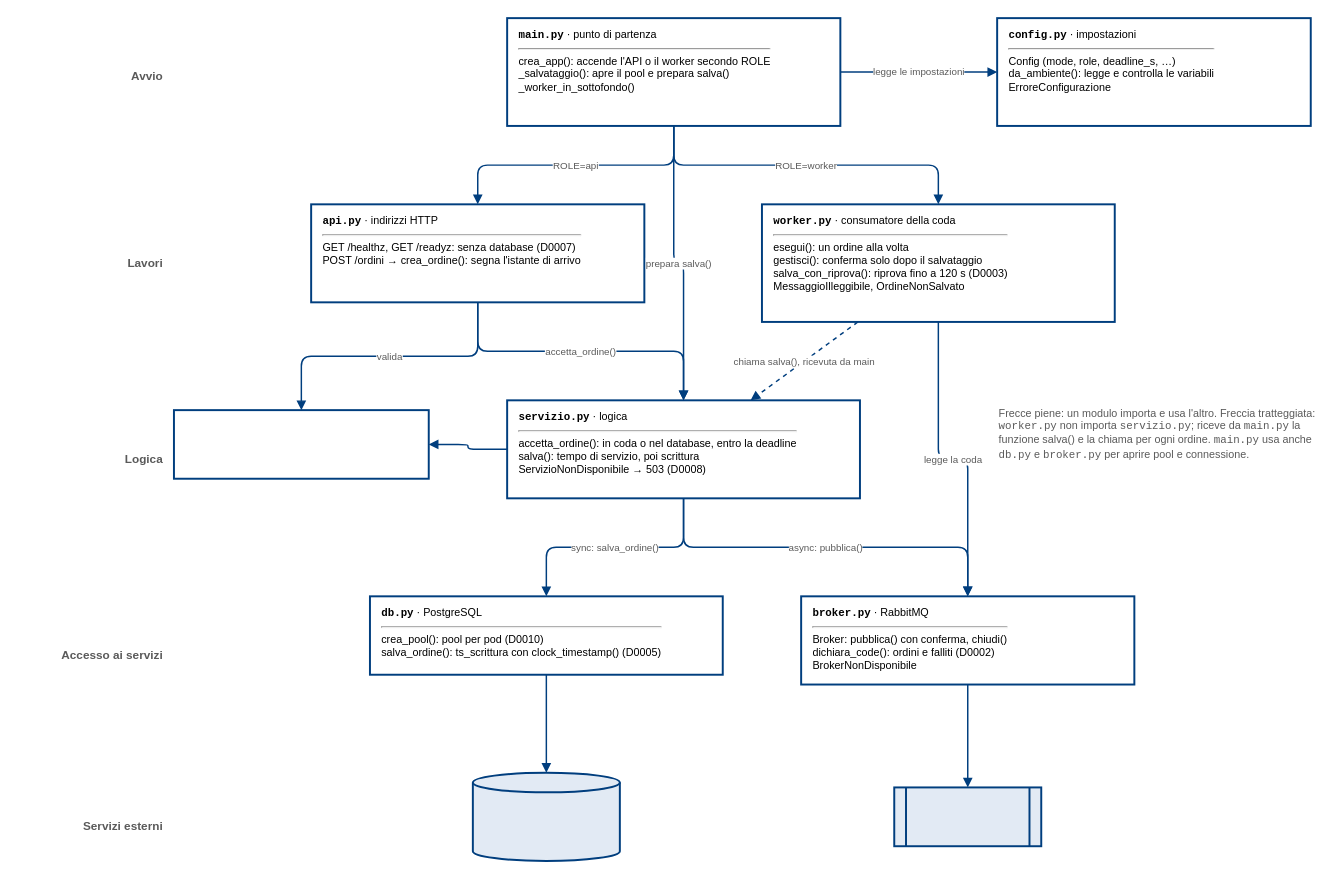
This 1337x887 diagram has some shape labels left out. Each missing label, with the centre of its shape:
"modelli.py · forma dell'ordine OrdineIn (id: UUID scelto dal client)" belongs at point 300,444.
"PostgreSQL" belongs at point 545,816.
"RabbitMQ" belongs at point 967,816.
